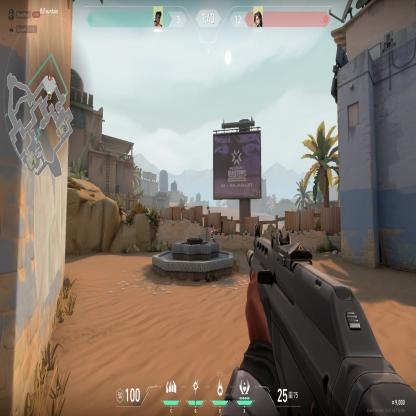enemy: (210, 222, 216, 243)
